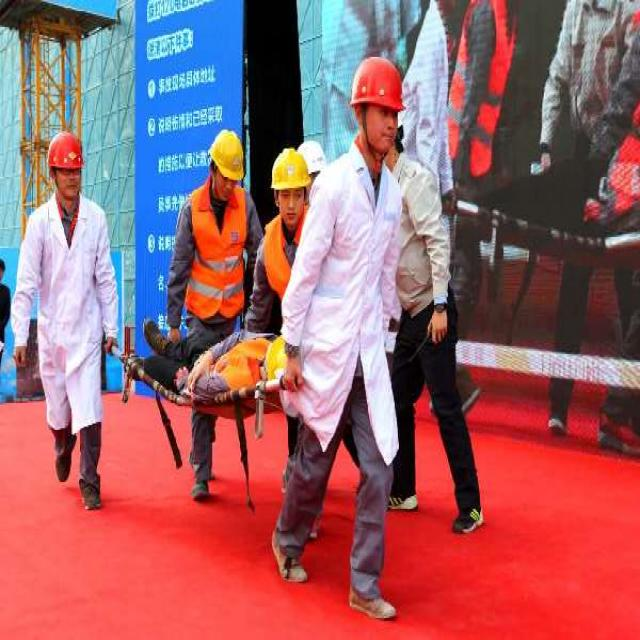Reflective-Jacket: (184, 186, 248, 321), (264, 218, 307, 302)
Safety-Helmet: (348, 56, 404, 112), (208, 130, 245, 182), (270, 147, 309, 191), (46, 130, 84, 170)
